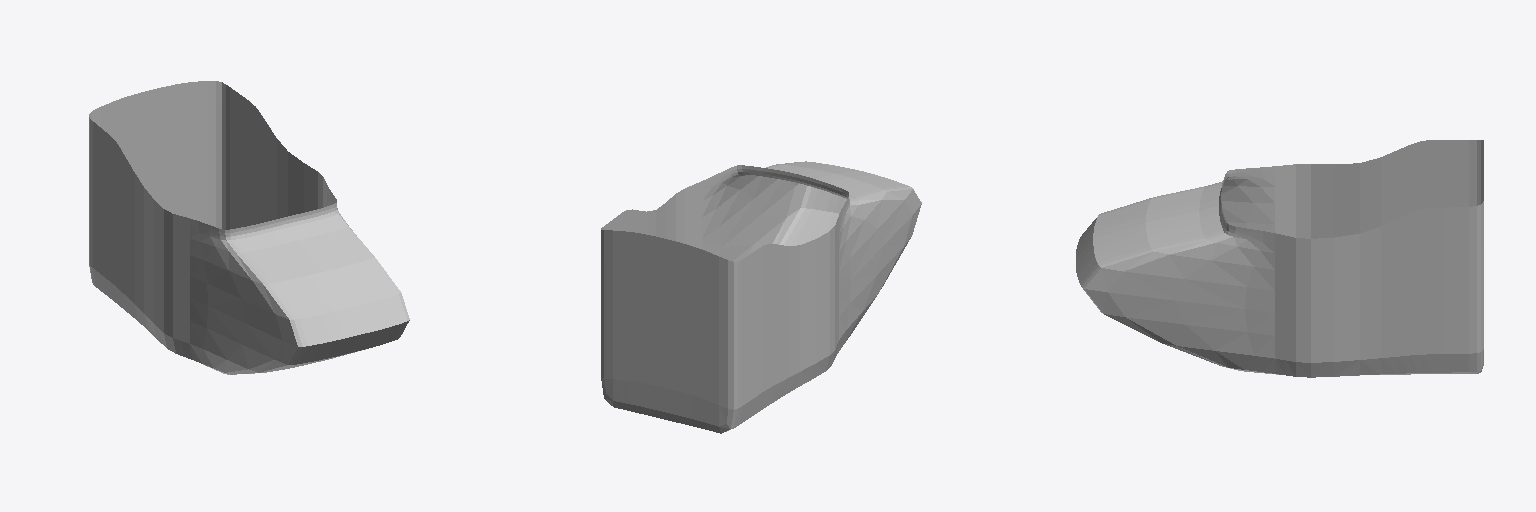
The model's file is Cockpit.obj.
The picture shows the model from 3 angles: view 1: azimuth 30°, elevation 25°; view 2: azimuth 150°, elevation 25°; view 3: azimuth 270°, elevation 25°; orthographic projection.
Visible parts, largest first — view 1: Cockpit_group__Spark_Renault_SRT_01E_cokpit; view 2: Cockpit_group__Spark_Renault_SRT_01E_cokpit; view 3: Cockpit_group__Spark_Renault_SRT_01E_cokpit.
Part boxes in pixels (left/top/right/bottom): Cockpit_group__Spark_Renault_SRT_01E_cokpit: left=89, top=81, right=409, bottom=374; Cockpit_group__Spark_Renault_SRT_01E_cokpit: left=601, top=161, right=921, bottom=433; Cockpit_group__Spark_Renault_SRT_01E_cokpit: left=1076, top=140, right=1483, bottom=377.
Bounding box in the file's own units: 0.4652 × 0.531 × 1.07.